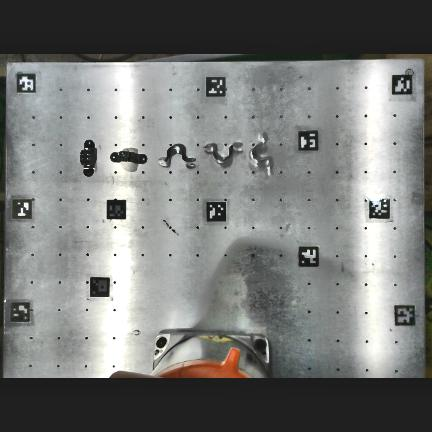clamp: (80, 140, 96, 176), (110, 151, 148, 163), (213, 154, 225, 164), (174, 154, 183, 161), (256, 167, 266, 171)
marker: (394, 304, 415, 325), (12, 198, 32, 219), (370, 198, 390, 218), (299, 246, 319, 266), (298, 130, 318, 150), (206, 75, 226, 95), (10, 300, 29, 321), (207, 201, 226, 222), (392, 75, 412, 94), (17, 73, 36, 93), (107, 200, 126, 219), (90, 278, 109, 296)
